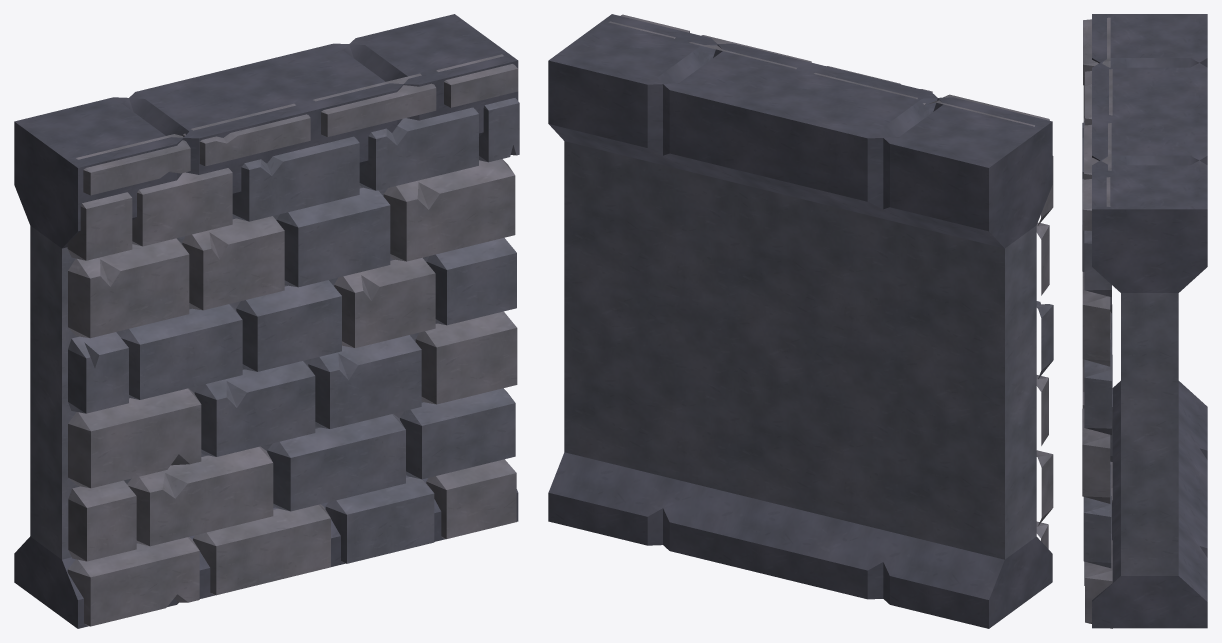
The model's file is ashlar_west.gltf.
3 renders of one model, left to right at view 1: azimuth 30°, elevation 25°; view 2: azimuth 150°, elevation 25°; view 3: azimuth 270°, elevation 25°, orthographic. The views are drawn at different scales.
Visible parts, largest first — view 1: ashlar_west; view 2: ashlar_west; view 3: ashlar_west.
Part boxes in pixels (bbox=[...]): ashlar_west: bbox=[14, 14, 519, 628]; ashlar_west: bbox=[548, 14, 1053, 628]; ashlar_west: bbox=[1082, 14, 1207, 628].
Bounding box in the file's own units: 4 × 4.04 × 1.08.
3 materials, 3 textured.
